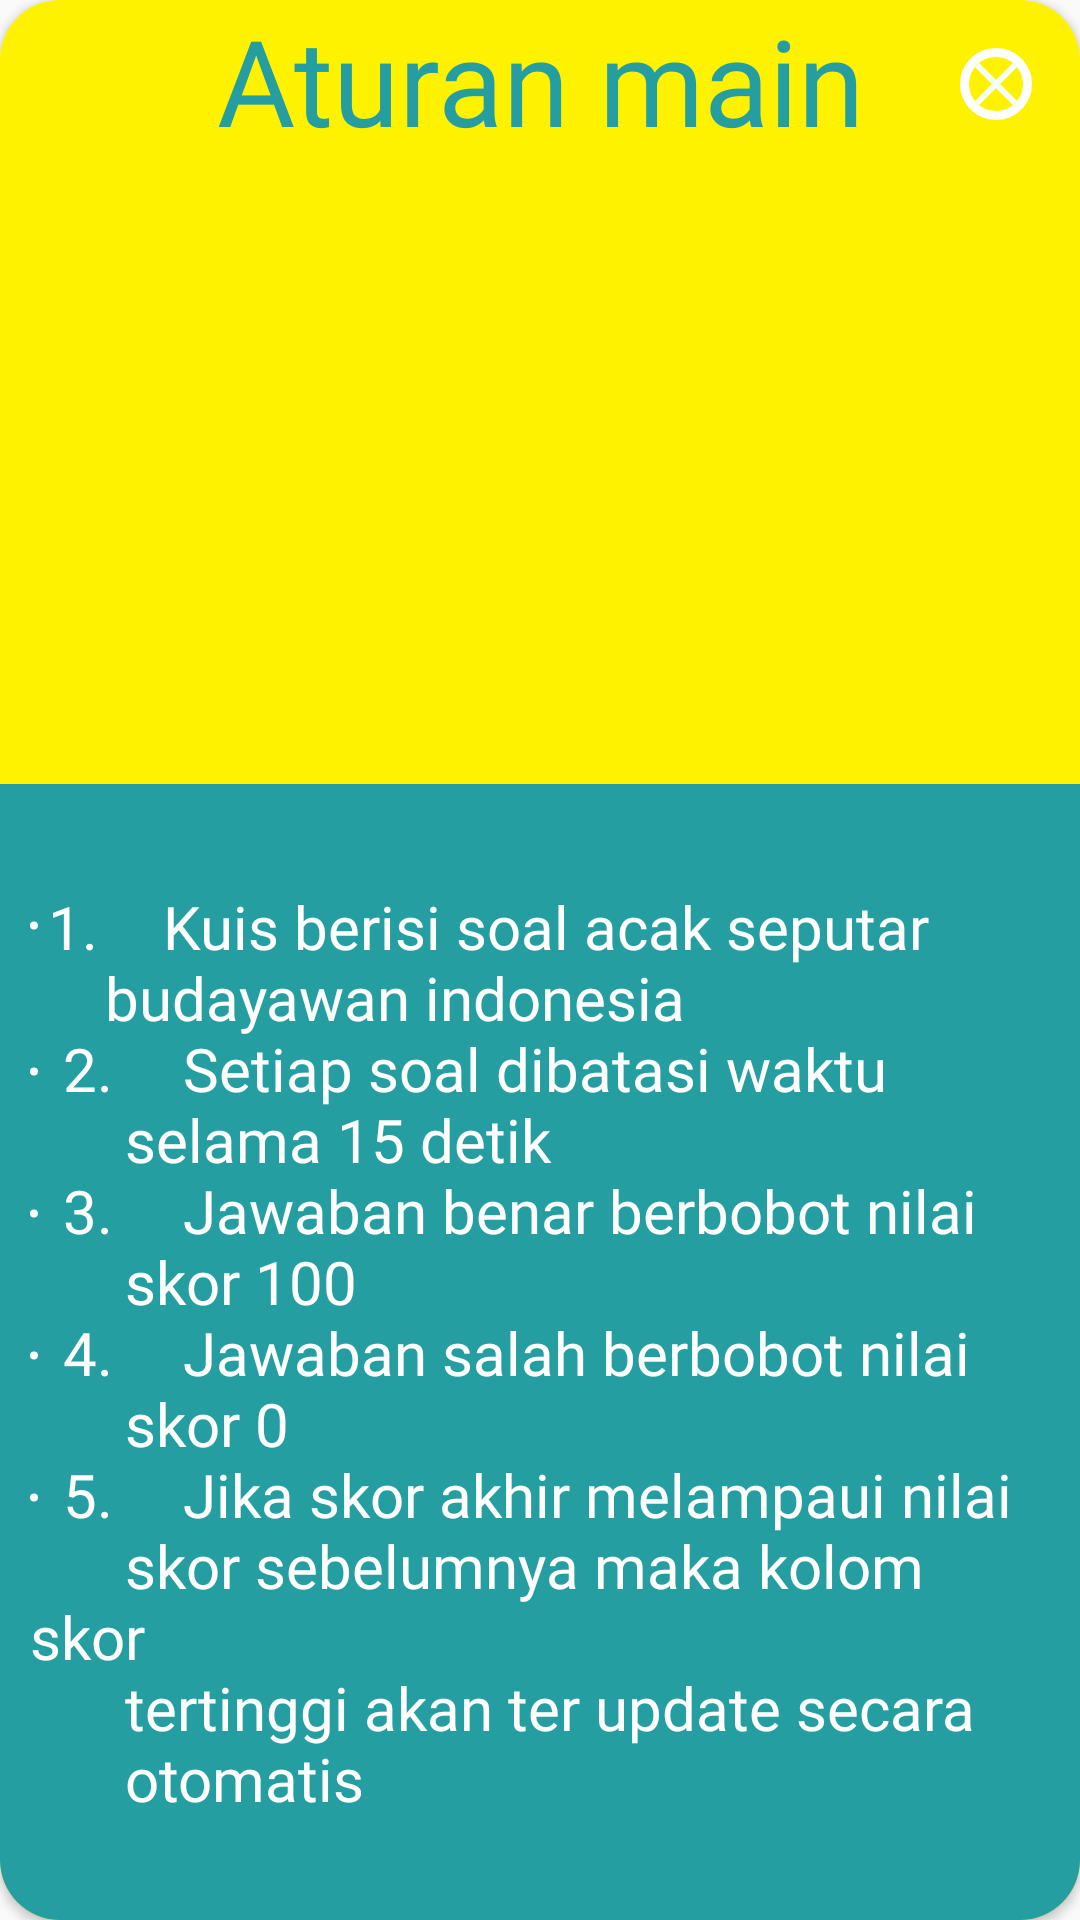

Locate icon controls on the screen. Image size 1080w x 1920h, boxes as (x1, y1, x2, y2).
close: (960, 48, 1032, 120)
